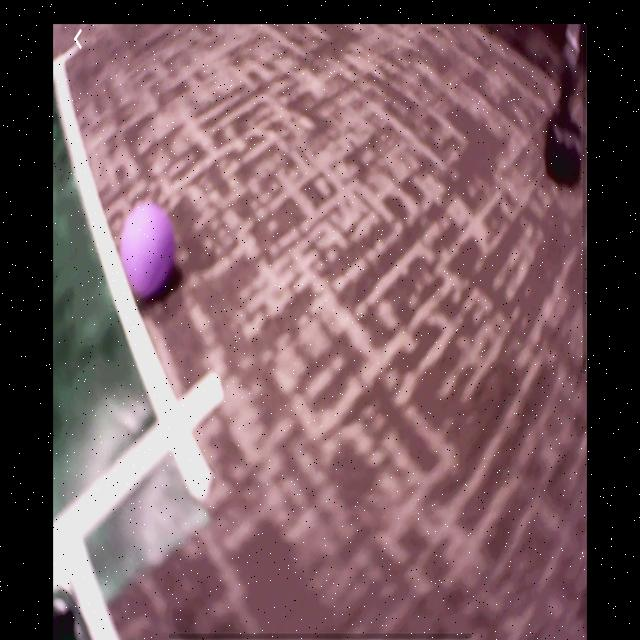ball: (119, 199, 177, 302)
